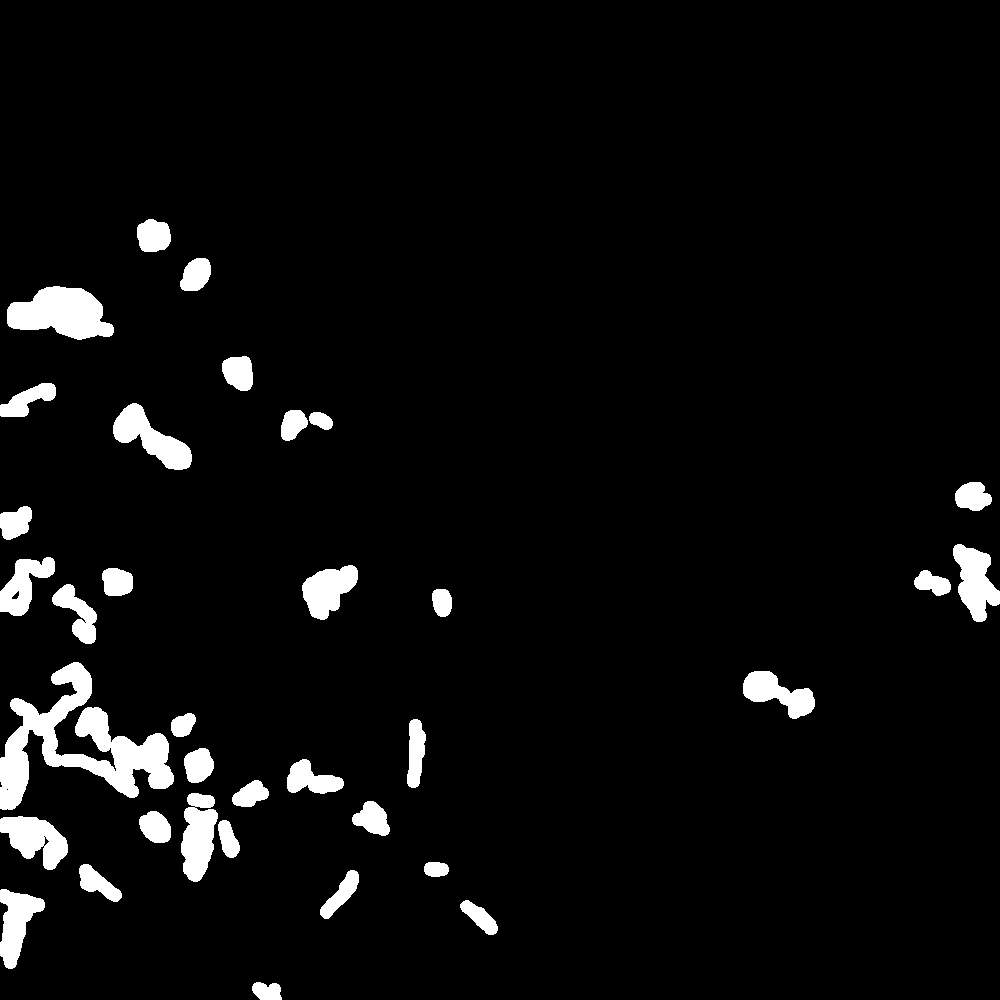illegal: (1, 264, 401, 881), (416, 541, 608, 866), (845, 442, 1000, 710), (1, 691, 187, 801), (126, 206, 219, 293), (422, 854, 501, 939), (730, 670, 830, 727), (75, 866, 127, 918)
